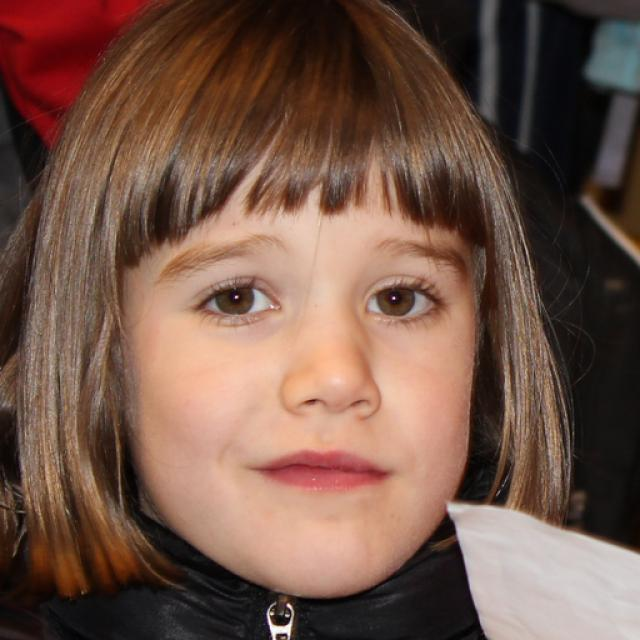content: (119, 112, 476, 592)
